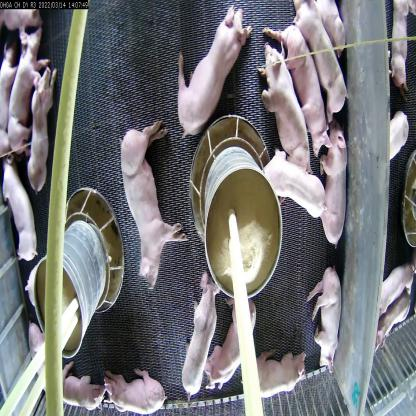Pig: (115, 116, 186, 284), (178, 0, 253, 141), (270, 10, 330, 160), (249, 40, 314, 178), (288, 0, 346, 125), (256, 134, 328, 224), (180, 268, 223, 398), (25, 51, 58, 205), (301, 261, 345, 375), (207, 298, 261, 390), (92, 350, 167, 415), (47, 342, 110, 415), (7, 23, 42, 153), (3, 157, 40, 269), (242, 346, 309, 406), (26, 324, 64, 415), (324, 118, 350, 245), (389, 0, 416, 92), (375, 266, 416, 322)
